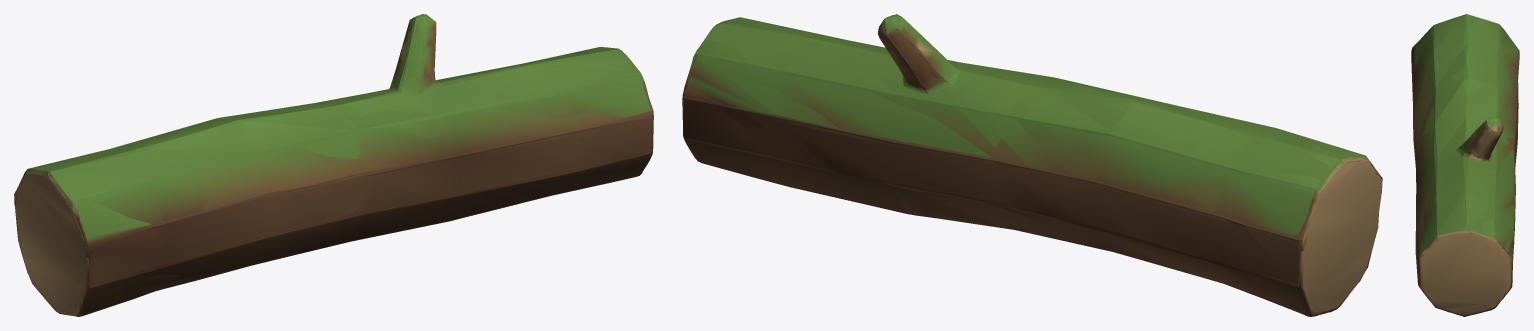
File: log.glb
3 renders of one model, left to right at view 1: azimuth 30°, elevation 25°; view 2: azimuth 150°, elevation 25°; view 3: azimuth 270°, elevation 25°, orthographic. The views are drawn at different scales.
Parts seen in each view (by area): view 1: log_LOD1, log_LOD2; view 2: log_LOD1, log_LOD2; view 3: log_LOD1, log_LOD2.
Boxes of the visible parts, bbox=[...] form: log_LOD1: bbox=[14, 14, 653, 316]; log_LOD2: bbox=[14, 14, 653, 316]; log_LOD1: bbox=[682, 15, 1382, 316]; log_LOD2: bbox=[682, 14, 1382, 316]; log_LOD1: bbox=[1411, 15, 1519, 316]; log_LOD2: bbox=[1412, 14, 1519, 316].
Bounding box in the file's own units: 1.61 × 0.5049 × 0.3627.
